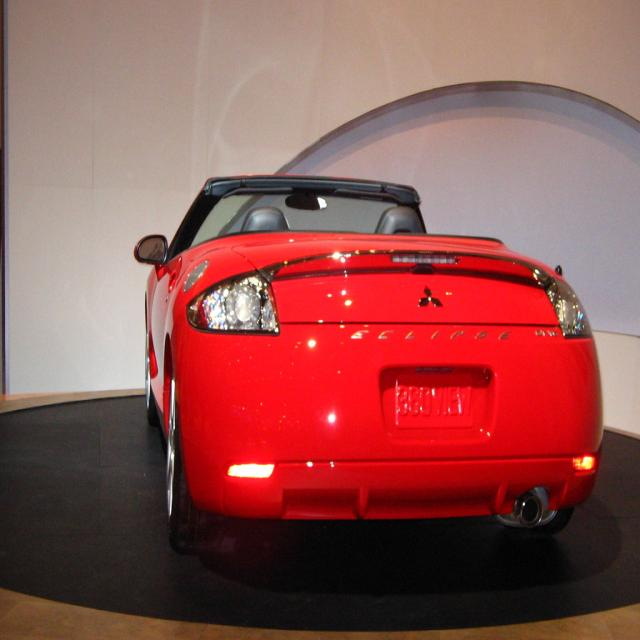car: (135, 175, 605, 552)
